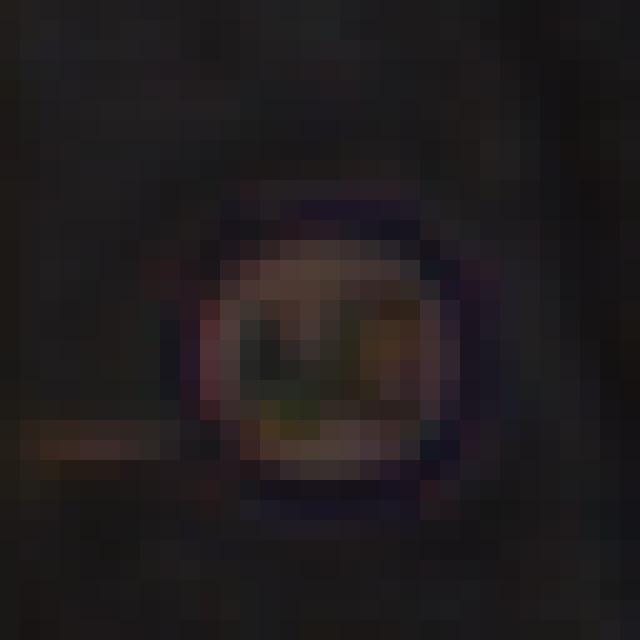SPEED-LIMIT-60: (148, 180, 519, 539)
